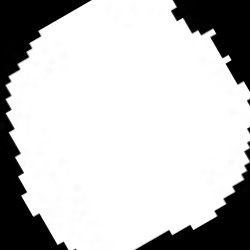spot: (5, 0, 249, 247)
